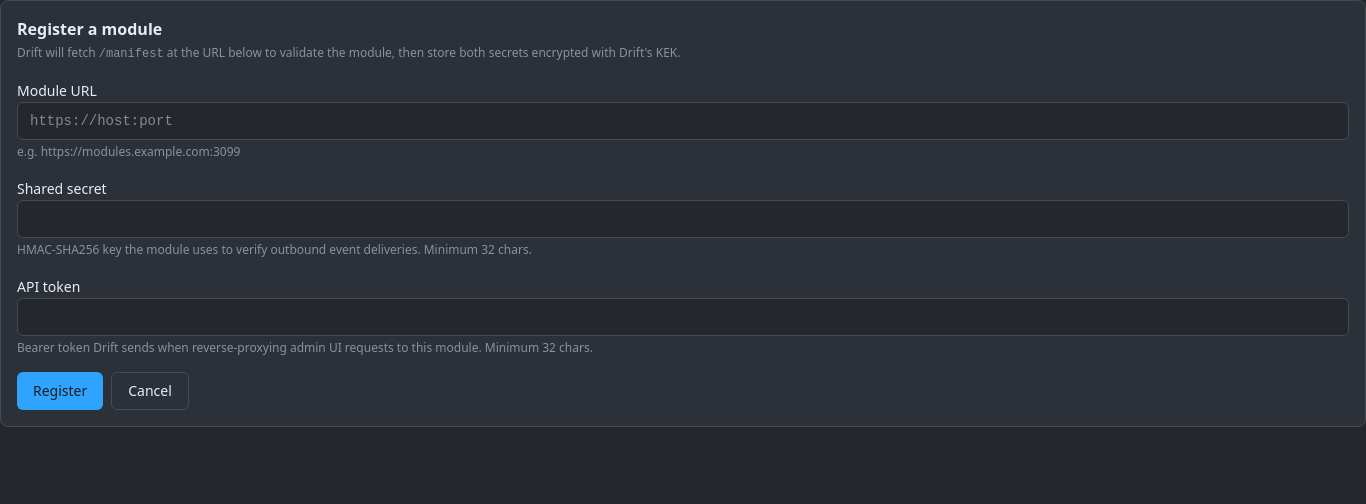
Test: RegisterModuleForm validation › clears a field's error as soon as the field is edited
Click the button "Register" at (60, 391), box [17, 372, 103, 410]
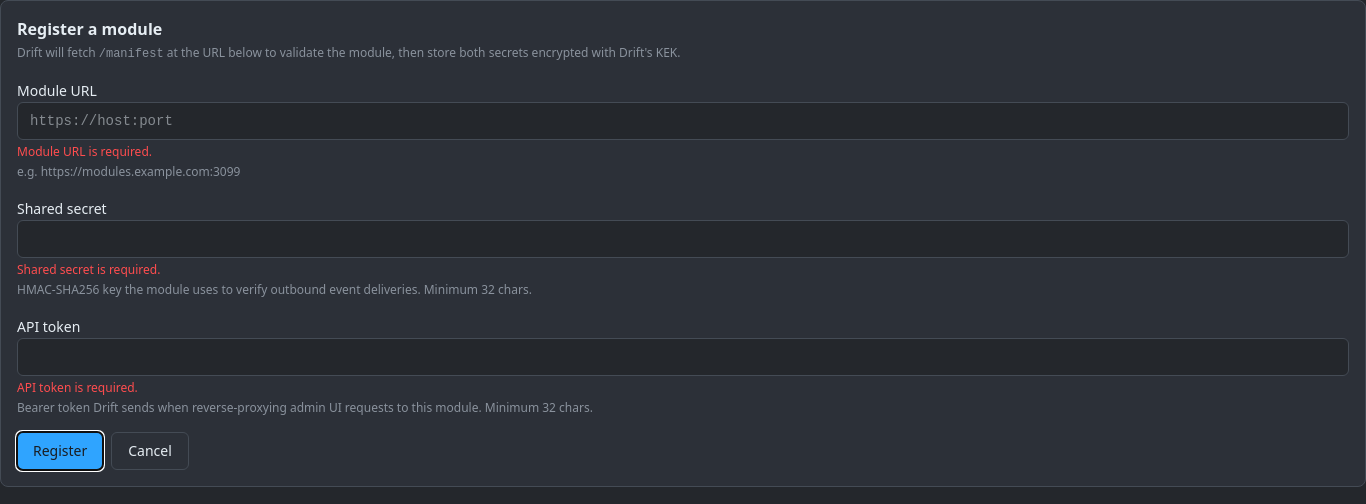
Now the text "Module URL is required." is shown, box [17, 143, 152, 160]
Type "h" into the field with placeholder "https://host:port" at (683, 121), box [17, 102, 1349, 140]
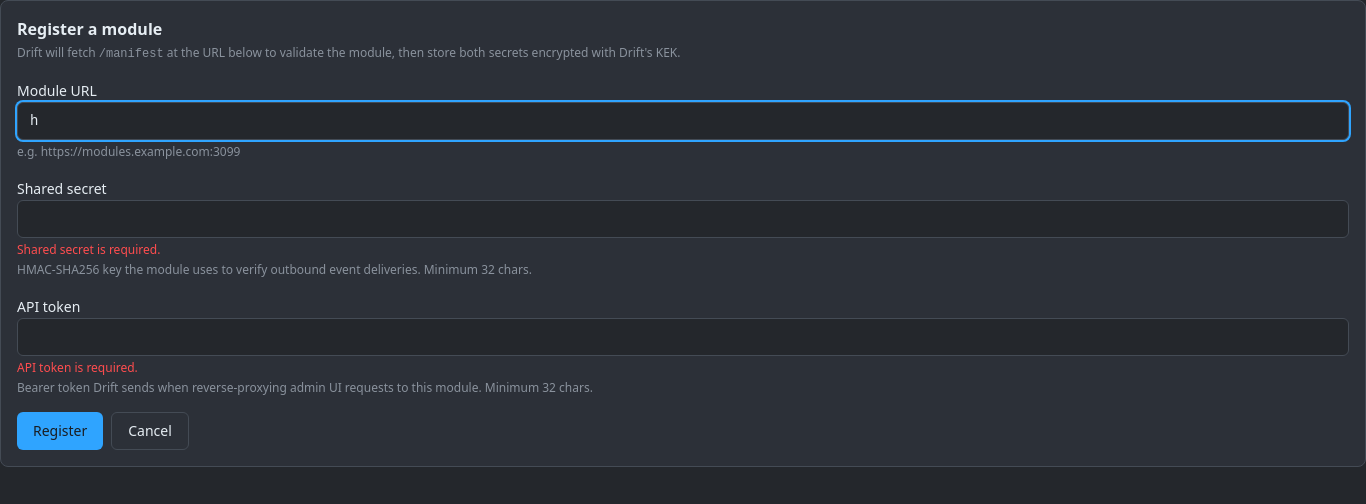
Now the text "Shared secret is required." is shown, box [17, 241, 160, 258]
Now the text "Module URL is required" is gone
